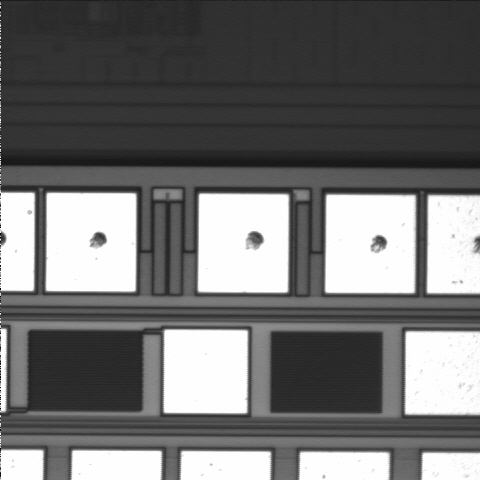pad: (198, 194, 289, 293), (46, 193, 136, 292), (325, 195, 415, 293), (164, 330, 248, 413)
